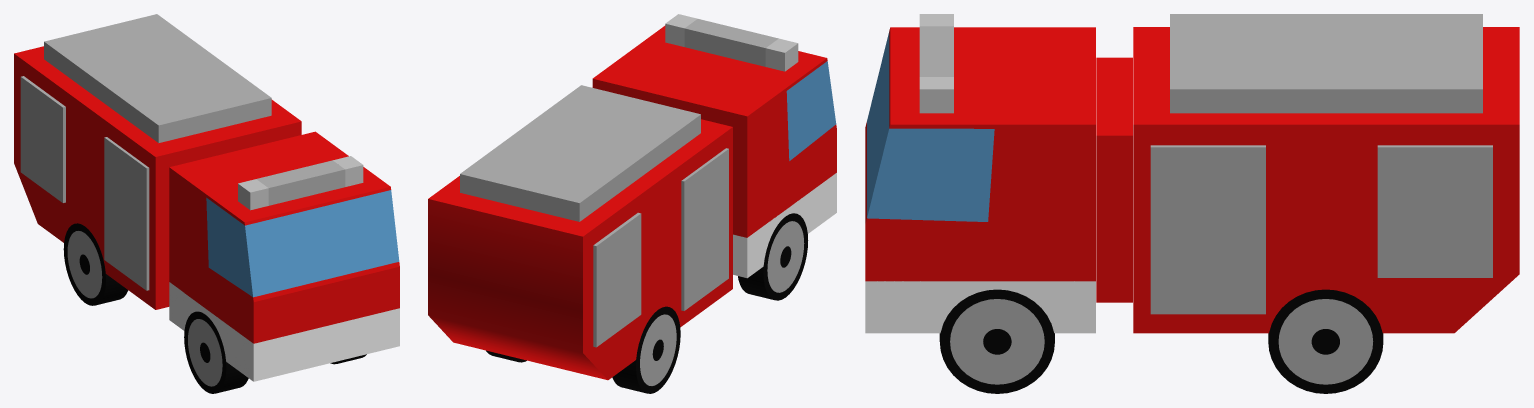
The model's file is feuerwehr.dae.
3 views of the same model, side by side, from view 1: azimuth 30°, elevation 25°; view 2: azimuth 150°, elevation 25°; view 3: azimuth 270°, elevation 25° (orthographic). The views are drawn at different scales.
Visible parts, largest first — view 1: Feuerwehr.1; view 2: Feuerwehr.1; view 3: Feuerwehr.1.
Boxes of the visible parts, bbox=[...] form: Feuerwehr.1: bbox=[14, 14, 399, 393]; Feuerwehr.1: bbox=[428, 14, 836, 393]; Feuerwehr.1: bbox=[865, 14, 1519, 393].
Size of the model in its own units: 208 by 281 by 568.
